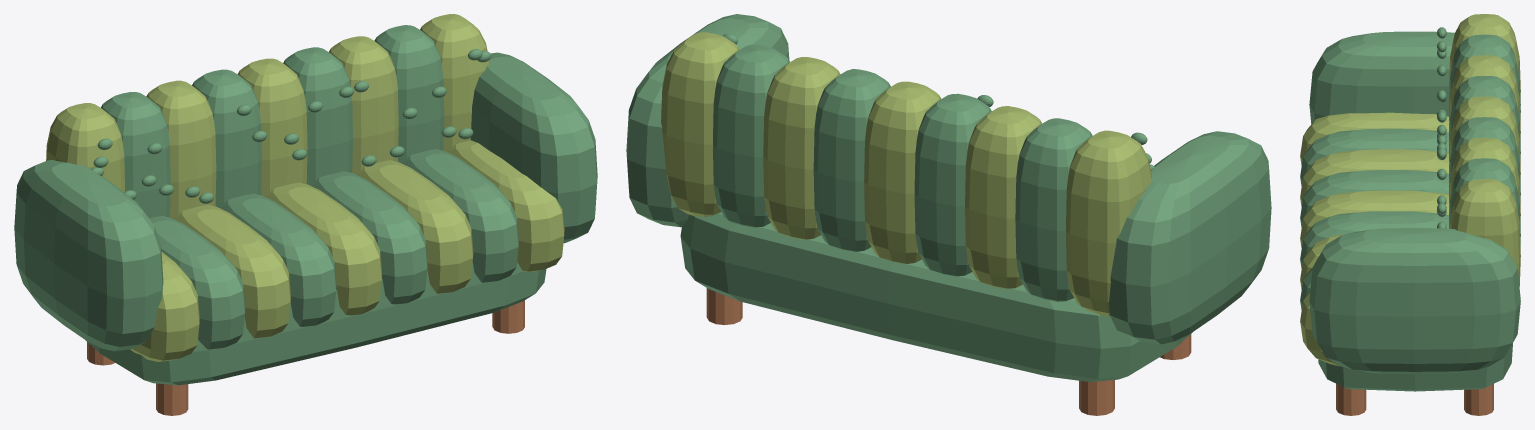
The model's file is bibendum-topiary-couch.glb.
The picture shows the model from 3 angles, left to right: view 1: azimuth 30°, elevation 25°; view 2: azimuth 150°, elevation 25°; view 3: azimuth 270°, elevation 25°; orthographic projection. The views are drawn at different scales.
Visible parts, largest first — view 1: bibendum-topiary-couch; view 2: bibendum-topiary-couch; view 3: bibendum-topiary-couch.
Part boxes in pixels (x1,y1,x2,y2): bibendum-topiary-couch: (14, 14, 597, 415); bibendum-topiary-couch: (626, 14, 1271, 415); bibendum-topiary-couch: (1300, 14, 1520, 415).
Bounding box in the file's own units: 2.32 × 1.11 × 0.95.
